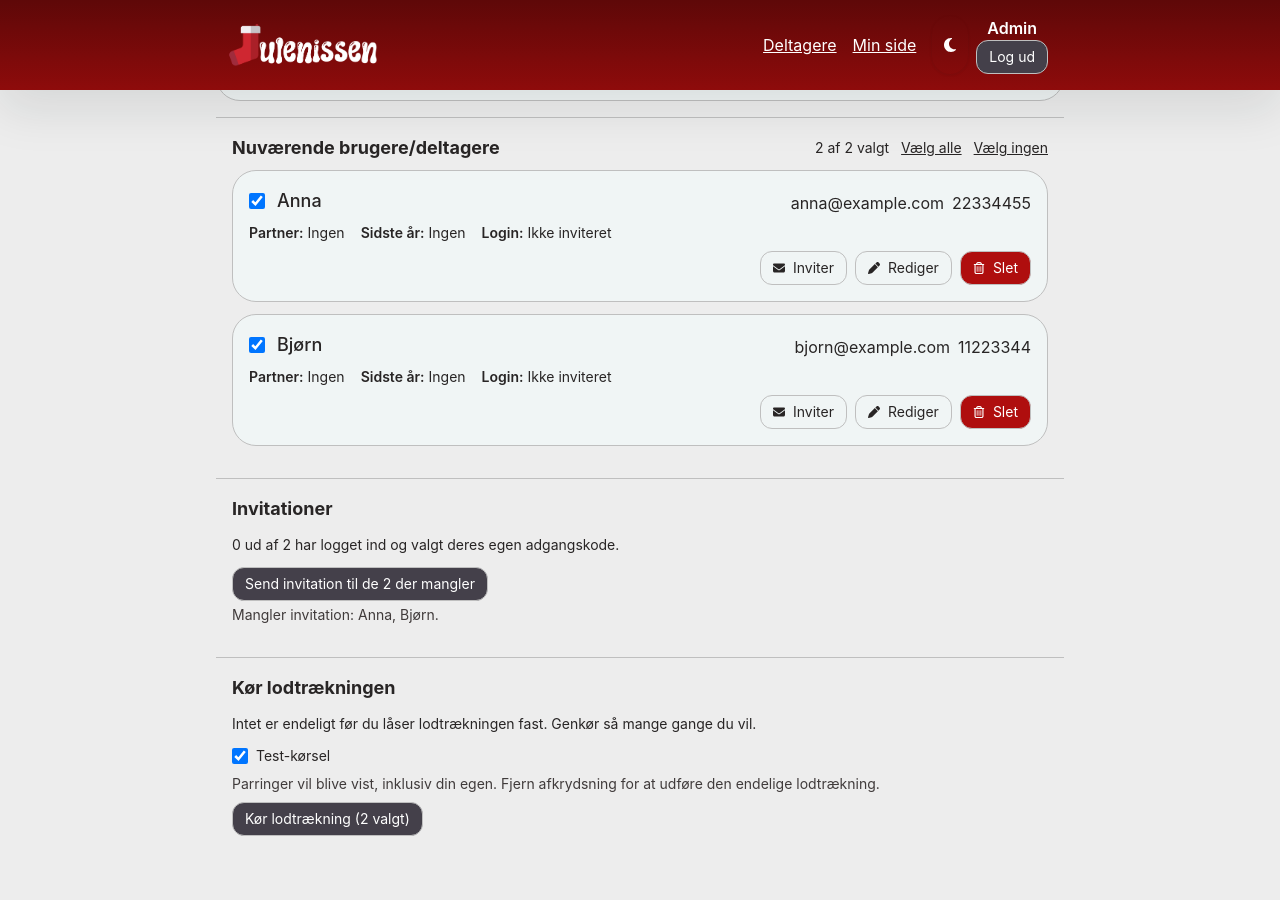
running a match from the admin page › shows a friendly message when no valid match exists for the selection
(page scrolled)
Expected: the text "2 af 2 valgt" is shown, [815, 138, 889, 158]
Click the button "Kør lodtrækning (2 valgt)": x=327, y=819 [232, 802, 423, 836]
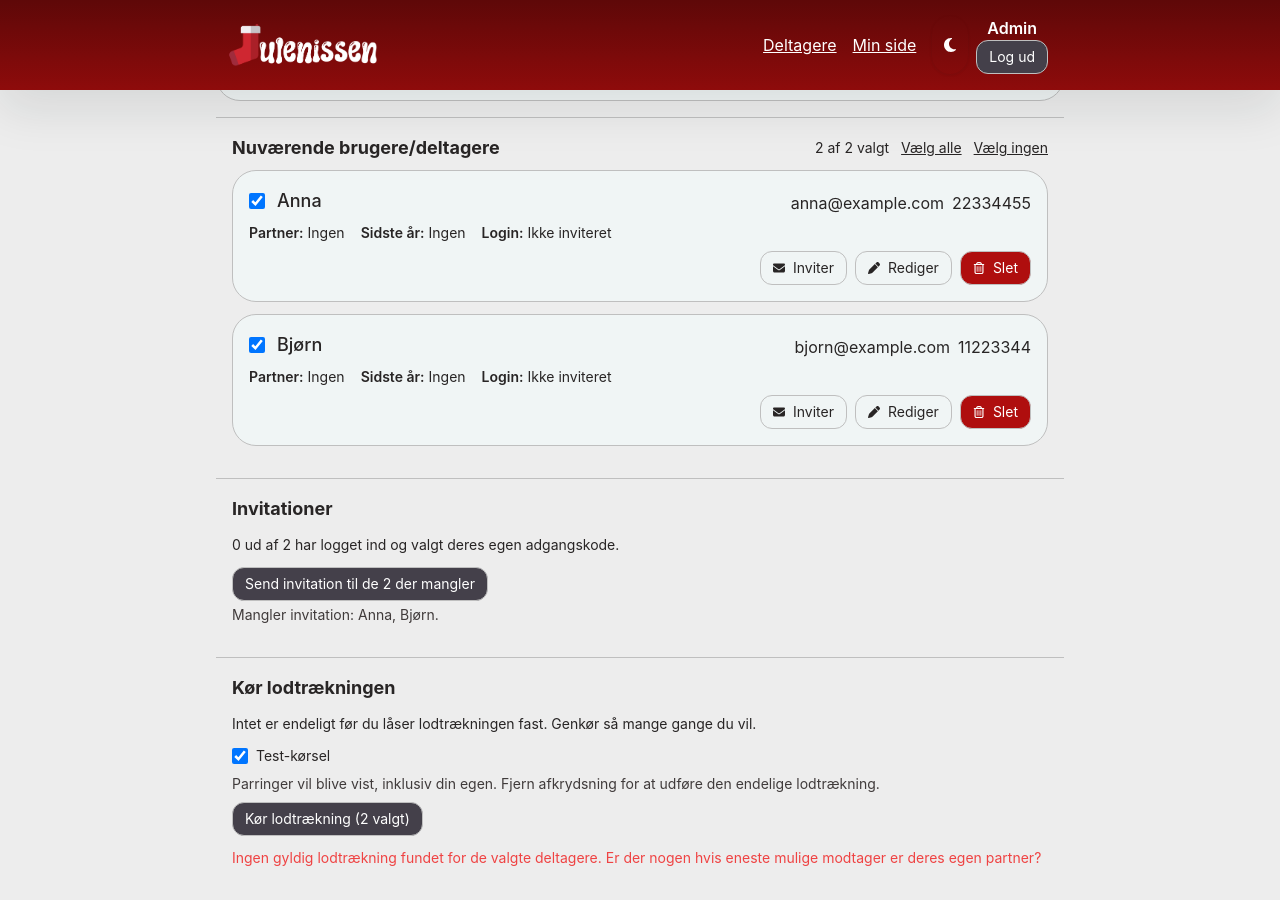
Now the text "Ingen gyldig lodtrækning fundet for de valgte deltagere" is shown, box [232, 849, 1041, 866]
